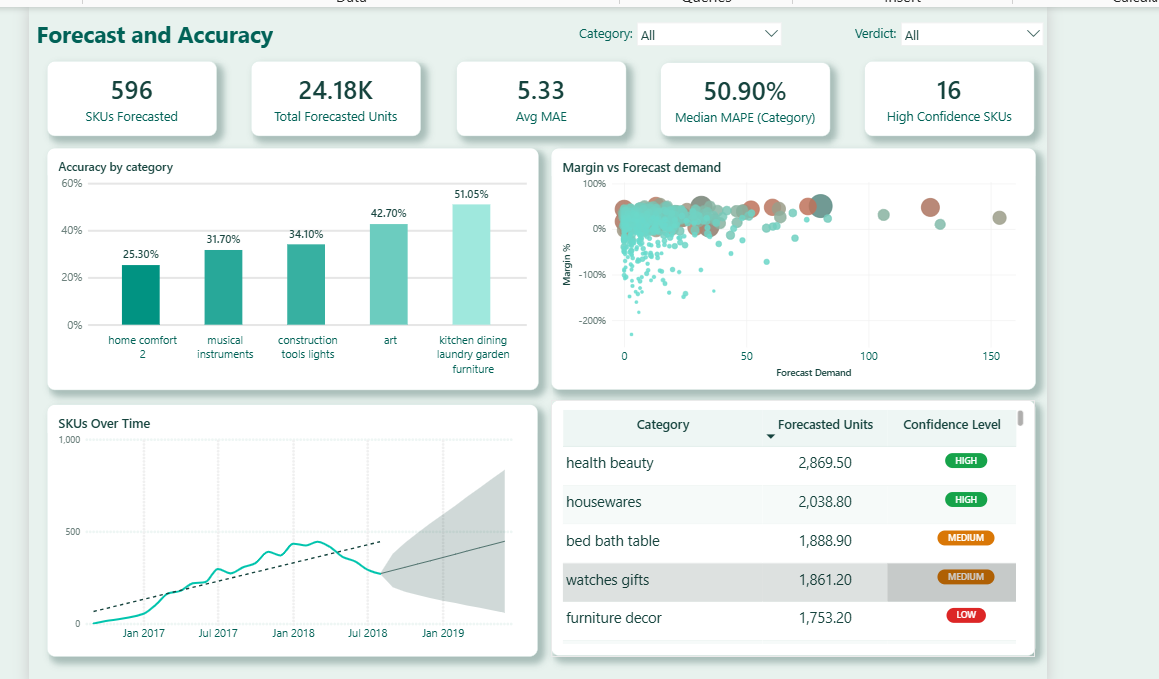

What the dashboard file says about the page in this screenshot:
{"tool":"powerbi","page":{"name":"Forecast and Accuracy","canvas":[1500,1000],"ordinal":1},"visuals":[{"type":"shape","title":"Reorder ","box":[12,0,425.9,78],"z":0},{"type":"card","fields":{"Values":["Measure.Median MAPE (Category)"]},"box":[930.1,81.9,250,108.5],"z":1000},{"type":"card","fields":{"Values":["Measure.High Conf SKUs"]},"box":[1231.3,79.7,250.2,110.7],"z":2000},{"type":"scatterChart","title":"Margin vs Forecast demand","fields":{"Category":["dim_product.product_id"],"X":["Measure.Forecast Demand"],"Y":["Measure.Margin %"],"Size":["Measure.Gross Revenue"]},"box":[768,207.2,714,356],"z":3000},{"type":"card","fields":{"Values":["Measure.Avg MAE"]},"box":[628.9,79.7,250,110.7],"z":4000},{"type":"card","fields":{"Values":["Measure.SKUs Forecast"]},"box":[26.6,79.7,250,110.7],"z":5000},{"type":"card","fields":{"Values":["Measure.Forecasted Units"]},"box":[327.8,79.7,250,110.7],"z":6000},{"type":"columnChart","title":"Accuracy by category","fields":{"Category":["dim_category.category"],"Y":["Measure.Avg MAPE"]},"box":[26.6,207.7,724.2,356.5],"z":7000},{"type":"slicer","fields":{"Values":["dim_category.category"]},"box":[890.3,17.7,223.1,77.3],"z":8000},{"type":"slicer","fields":{"Values":["decision_input.verdict"]},"box":[1279.6,18,219.9,78],"z":9000},{"type":"shape","box":[749.6,9.4,140,60],"z":10000},{"type":"shape","box":[1138.3,8.9,139.5,59.8],"z":11000},{"type":"lineChart","title":"SKUs Over Time","fields":{"Category":["dim_date.Date"],"Y":["CountNonNull(monthly_sku_performance.product_id)"]},"box":[26.5,584.8,722.4,371.1],"z":12000},{"type":"tableEx","fields":{"Values":["dim_category.category","Measure.Forecast (Category)","forecast_results.Confidence Pill"]},"box":[768.5,579.7,713.1,376.5],"z":13000}]}

Visuals, with their boxes on the page's 1500x1000 design canvas (x1, y1, x2, y2). These are canvas units, not pixel positions in the 1159x679 screenshot, which may show the page scaled, cropped or inside an application window:
"Reorder " shape: select_region(12, 0, 438, 78)
card - Measure.Median MAPE (Category): select_region(930, 82, 1180, 190)
card - Measure.High Conf SKUs: select_region(1231, 80, 1482, 190)
"Margin vs Forecast demand" scatterChart: select_region(768, 207, 1482, 563)
card - Measure.Avg MAE: select_region(629, 80, 879, 190)
card - Measure.SKUs Forecast: select_region(27, 80, 277, 190)
card - Measure.Forecasted Units: select_region(328, 80, 578, 190)
"Accuracy by category" columnChart: select_region(27, 208, 751, 564)
slicer - dim_category.category: select_region(890, 18, 1113, 95)
slicer - decision_input.verdict: select_region(1280, 18, 1500, 96)
shape: select_region(750, 9, 890, 69)
shape: select_region(1138, 9, 1278, 69)
"SKUs Over Time" lineChart: select_region(26, 585, 749, 956)
tableEx - dim_category.category x Measure.Forecast (Category): select_region(768, 580, 1482, 956)
